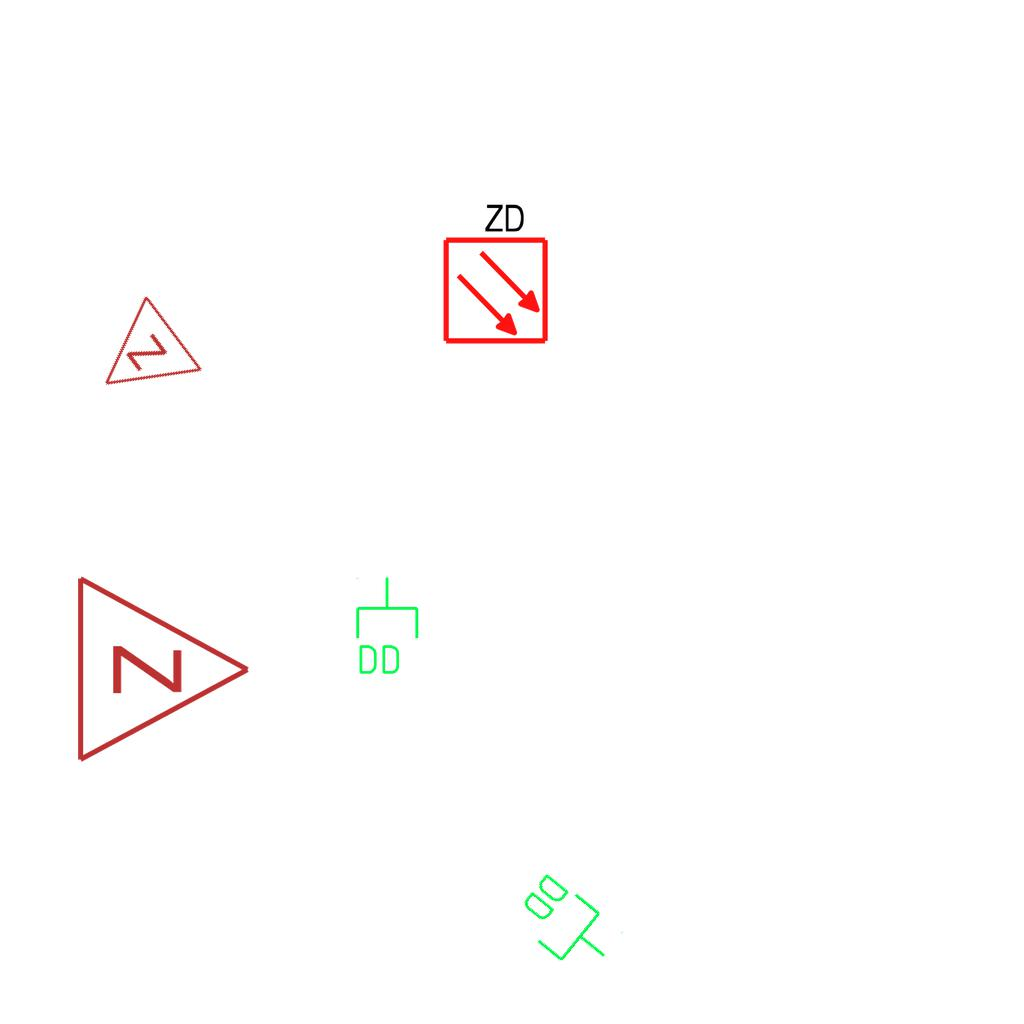Datenanschluss_zweifach: (504, 865, 629, 984), (352, 575, 421, 678)
ZD_Melder_in_Zwischendecke_mit_Revisionsoeffnung_mind_40_x_40_cm: (437, 197, 551, 346)
Zimmersignalleuchte: (63, 569, 263, 765), (71, 289, 211, 429)
